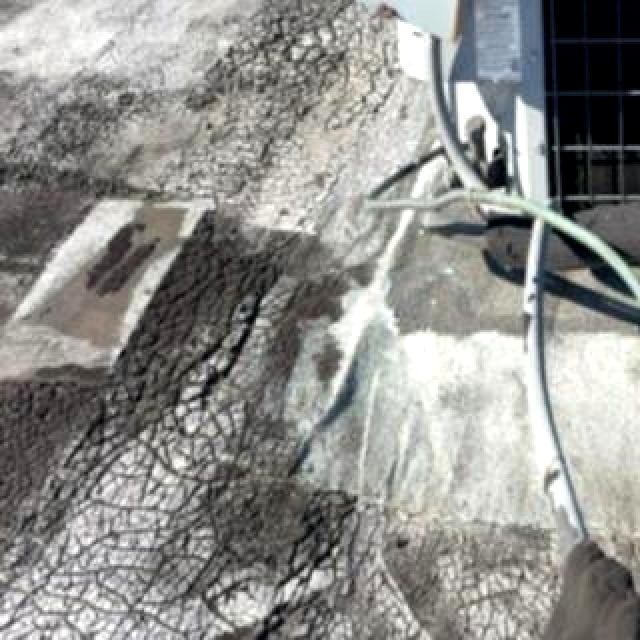SPLIT-SYSTEM: (330, 0, 640, 268)
